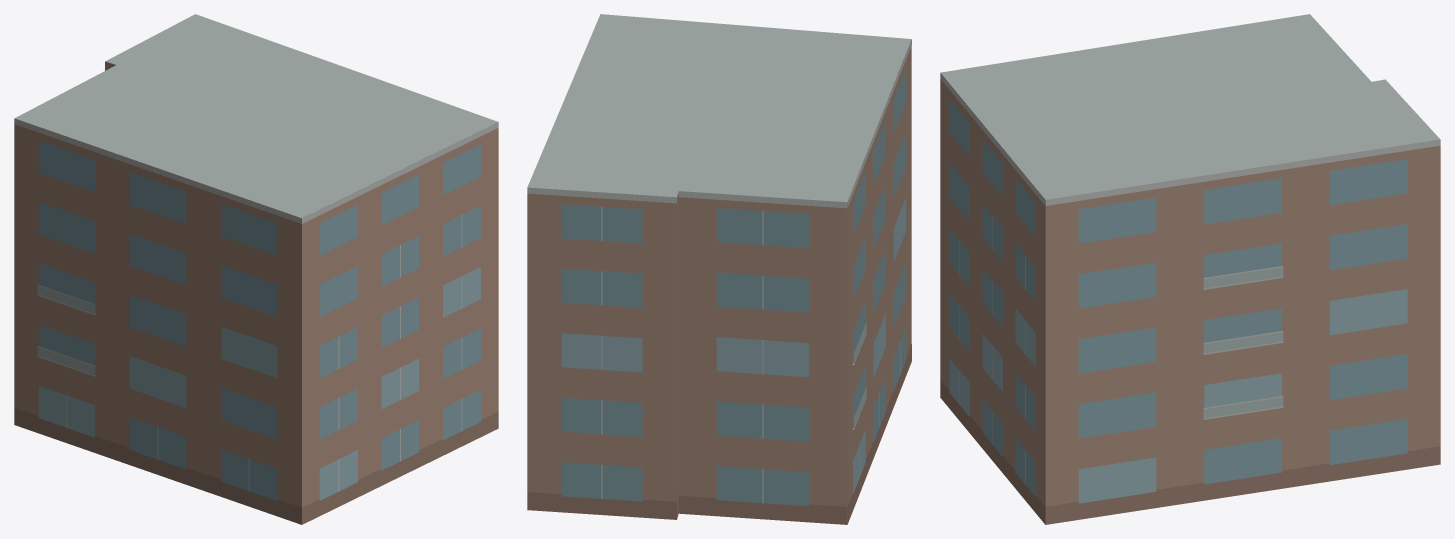
File: survey-upis-32977396.glb
3 views of the same model, side by side, from view 1: azimuth 30°, elevation 25°; view 2: azimuth 150°, elevation 25°; view 3: azimuth 270°, elevation 25° (orthographic). The views are drawn at different scales.
Visible parts, largest first — view 1: survey-upis-32977396.tmp; view 2: survey-upis-32977396.tmp; view 3: survey-upis-32977396.tmp.
Boxes of the visible parts, x1,y1,x2,y2 form: survey-upis-32977396.tmp: (14, 14, 498, 524); survey-upis-32977396.tmp: (527, 14, 911, 524); survey-upis-32977396.tmp: (940, 14, 1440, 524).
Size of the model in its own units: 15.91 by 12.96 by 18.09.
